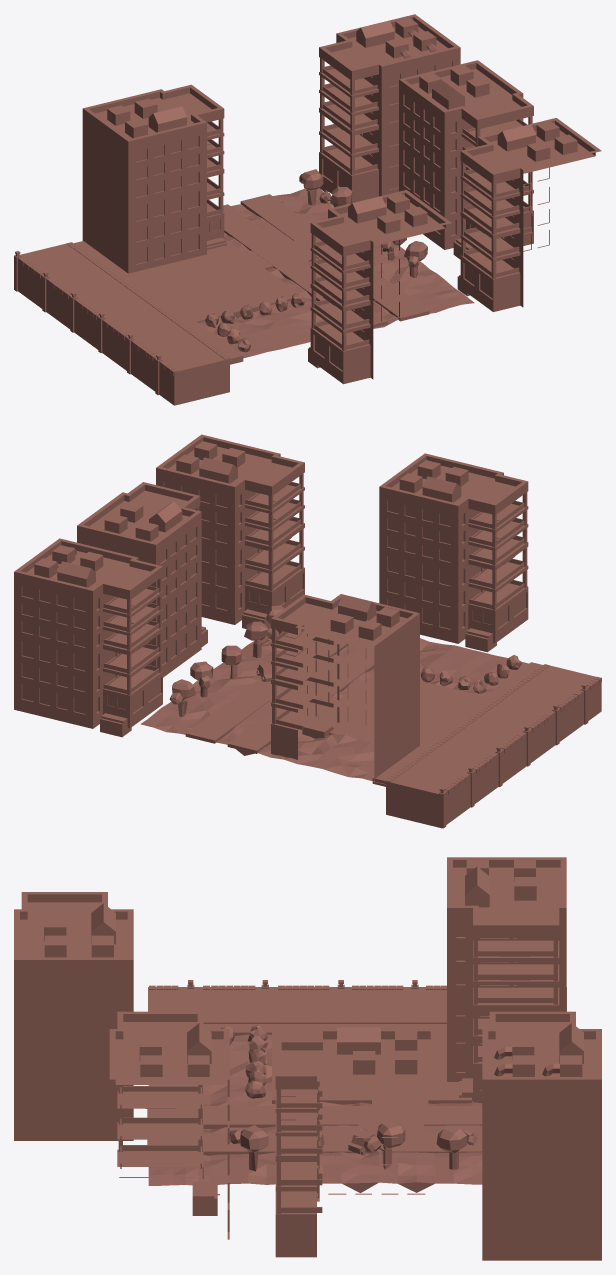
The model's file is map.gltf.
3 renders of one model, top to bottom at view 1: azimuth 30°, elevation 25°; view 2: azimuth 150°, elevation 25°; view 3: azimuth 270°, elevation 25°, orthographic. The views are drawn at different scales.
Visible parts, largest first — view 1: Cube.006; view 2: Cube.006; view 3: Cube.006.
Part boxes in pixels (box(x1,y1,x2,y2)): Cube.006: box(14, 14, 601, 405); Cube.006: box(14, 434, 601, 828); Cube.006: box(14, 857, 601, 1260).
Size of the model in its own units: 28.35 by 11.48 by 26.45.
